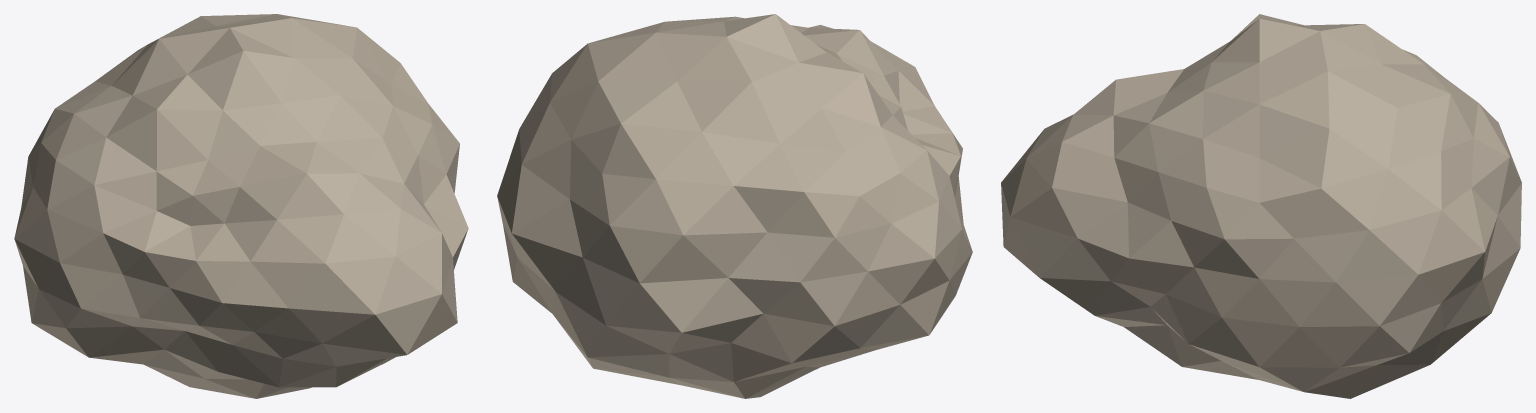
The model's file is rock2.glb.
3 views of the same model, side by side, from view 1: azimuth 30°, elevation 25°; view 2: azimuth 150°, elevation 25°; view 3: azimuth 270°, elevation 25° (orthographic). The views are drawn at different scales.
Visible parts, largest first — view 1: rock; view 2: rock; view 3: rock.
Boxes of the visible parts, x1=… form: rock: x1=14, y1=14, x2=468, y2=398; rock: x1=497, y1=14, x2=972, y2=398; rock: x1=1001, y1=14, x2=1521, y2=398.
Size of the model in its own units: 2.14 by 1.77 by 2.45.
